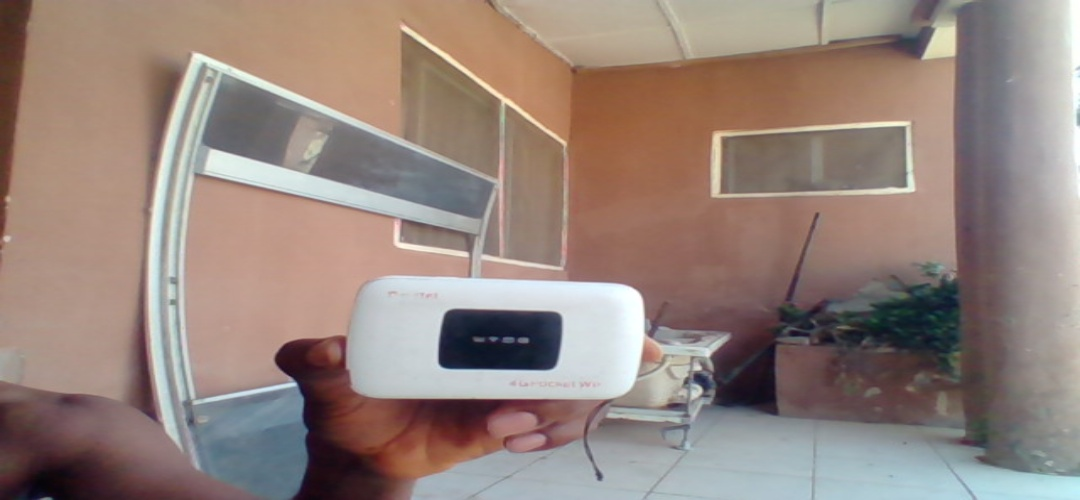mifi: (349, 272, 644, 402)
